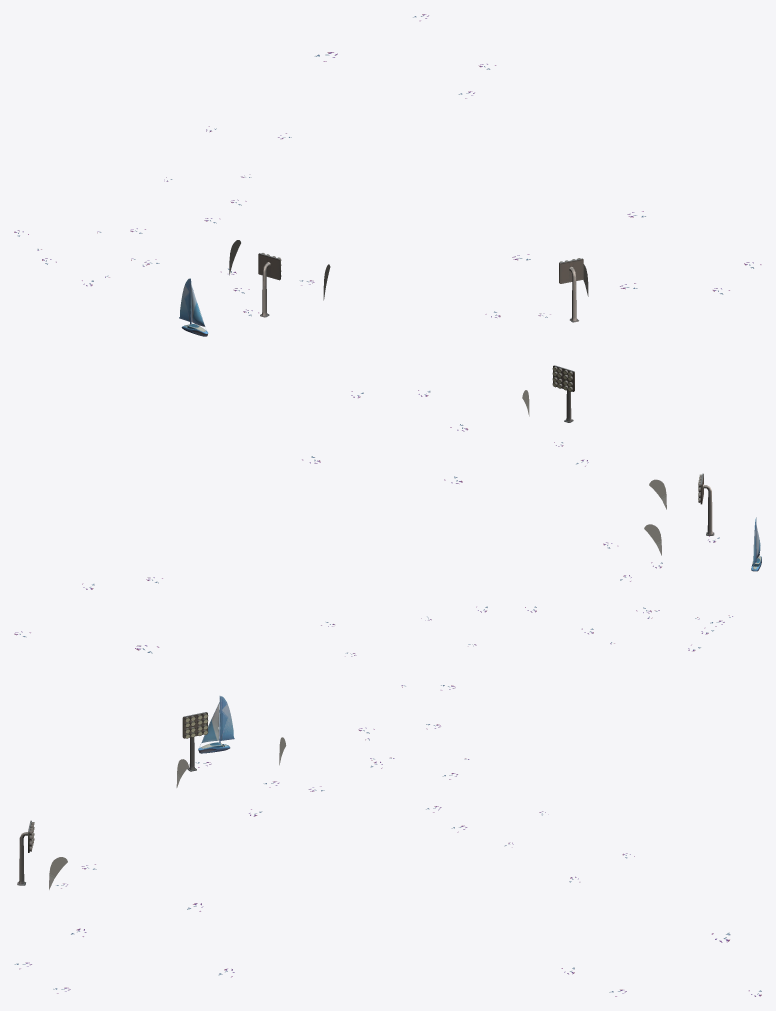
File: pref_sm_beach_bk_pointmol_smallpror01_R_lv2.fbx
The picture shows the model from 3 angles, top to bottom: view 1: azimuth 30°, elevation 25°; view 2: azimuth 150°, elevation 25°; view 3: azimuth 270°, elevation 25°; orthographic projection. The views are drawn at different scales.
Visible parts, largest first — view 1: sm_beach_bk_pointmol_smallpror01a_R_lv2, sm_beach_bk_pointmol_smallpror01b_R_lv2, sm_beach_bk_pointmol_smallpror01c_R_lv2; view 2: sm_beach_bk_pointmol_smallpror01a_R_lv2, sm_beach_bk_pointmol_smallpror01d_R_lv2, sm_beach_bk_pointmol_smallpror01c_R_lv2; view 3: sm_beach_bk_pointmol_smallpror01a_R_lv2, sm_beach_bk_pointmol_smallpror01b_R_lv2, sm_beach_bk_pointmol_smallpror01c_R_lv2, sm_beach_bk_pointmol_smallpror01d_R_lv2.
Boxes of the visible parts, x1=… form: sm_beach_bk_pointmol_smallpror01a_R_lv2: x1=258, y1=253, x2=583, y2=322; sm_beach_bk_pointmol_smallpror01b_R_lv2: x1=179, y1=278, x2=208, y2=336; sm_beach_bk_pointmol_smallpror01c_R_lv2: x1=14, y1=14, x2=761, y2=317; sm_beach_bk_pointmol_smallpror01a_R_lv2: x1=552, y1=365, x2=714, y2=535; sm_beach_bk_pointmol_smallpror01d_R_lv2: x1=522, y1=390, x2=666, y2=555; sm_beach_bk_pointmol_smallpror01c_R_lv2: x1=14, y1=390, x2=732, y2=656; sm_beach_bk_pointmol_smallpror01a_R_lv2: x1=17, y1=712, x2=208, y2=885; sm_beach_bk_pointmol_smallpror01b_R_lv2: x1=198, y1=696, x2=234, y2=753; sm_beach_bk_pointmol_smallpror01c_R_lv2: x1=14, y1=685, x2=761, y2=996; sm_beach_bk_pointmol_smallpror01d_R_lv2: x1=49, y1=737, x2=286, y2=889.
Size of the model in its own units: 79.77 by 9.03 by 88.92.
